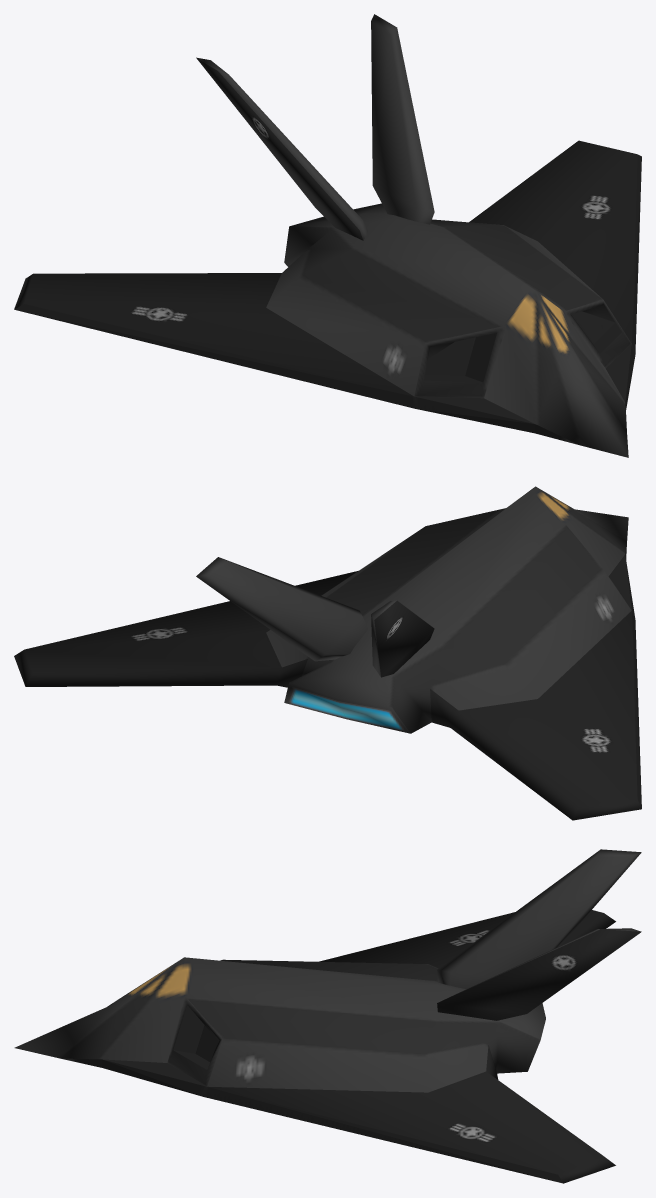
The picture shows the model from 3 angles, top to bottom: view 1: azimuth 30°, elevation 25°; view 2: azimuth 150°, elevation 25°; view 3: azimuth 270°, elevation 25°; orthographic projection. The views are drawn at different scales.
Visible parts, largest first — view 1: F_117; view 2: F_117; view 3: F_117.
Boxes of the visible parts, bbox=[...] form: F_117: bbox=[14, 14, 641, 457]; F_117: bbox=[14, 486, 641, 820]; F_117: bbox=[14, 849, 641, 1183].
Bounding box in the file's own units: 2713 × 717 × 2571.
Materials: 1 (1 with a texture image).
